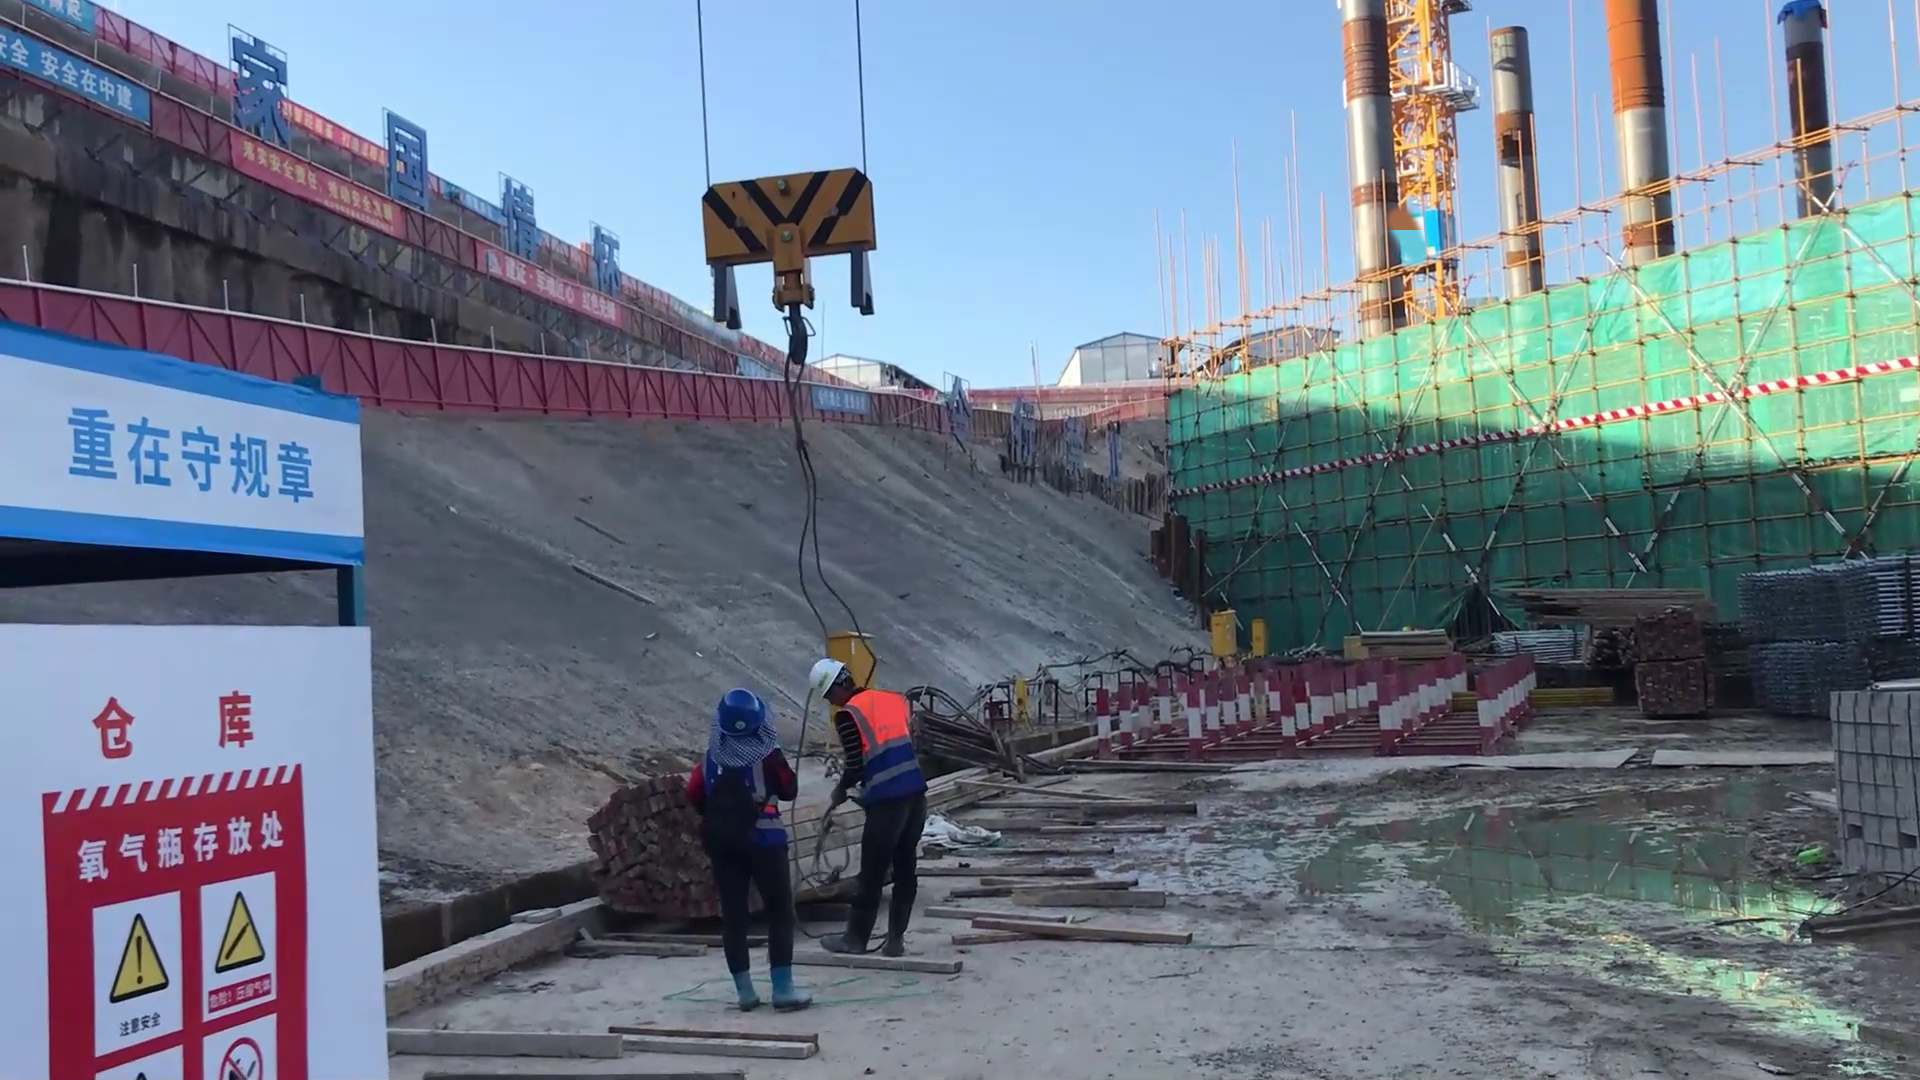brick: (1823, 679, 1920, 897)
ebox: (832, 629, 878, 686), (1211, 607, 1245, 654), (1250, 614, 1271, 662)
fence: (348, 319, 626, 426), (625, 364, 804, 424)
helmet: (807, 654, 870, 717), (706, 680, 755, 740)
hook: (706, 164, 874, 333)
person: (801, 650, 929, 968), (692, 679, 812, 1012)
scaffold: (1754, 548, 1920, 656)
slogan: (51, 738, 332, 1079), (57, 384, 343, 529), (217, 133, 392, 294), (1, 9, 186, 134)
vest: (844, 696, 913, 761)
wood: (588, 748, 697, 944), (1503, 568, 1695, 644)
